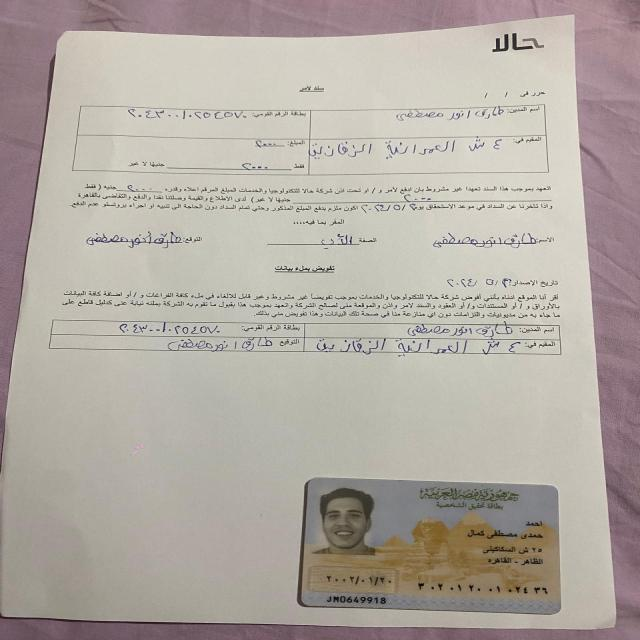id_card: (285, 473, 568, 619)
